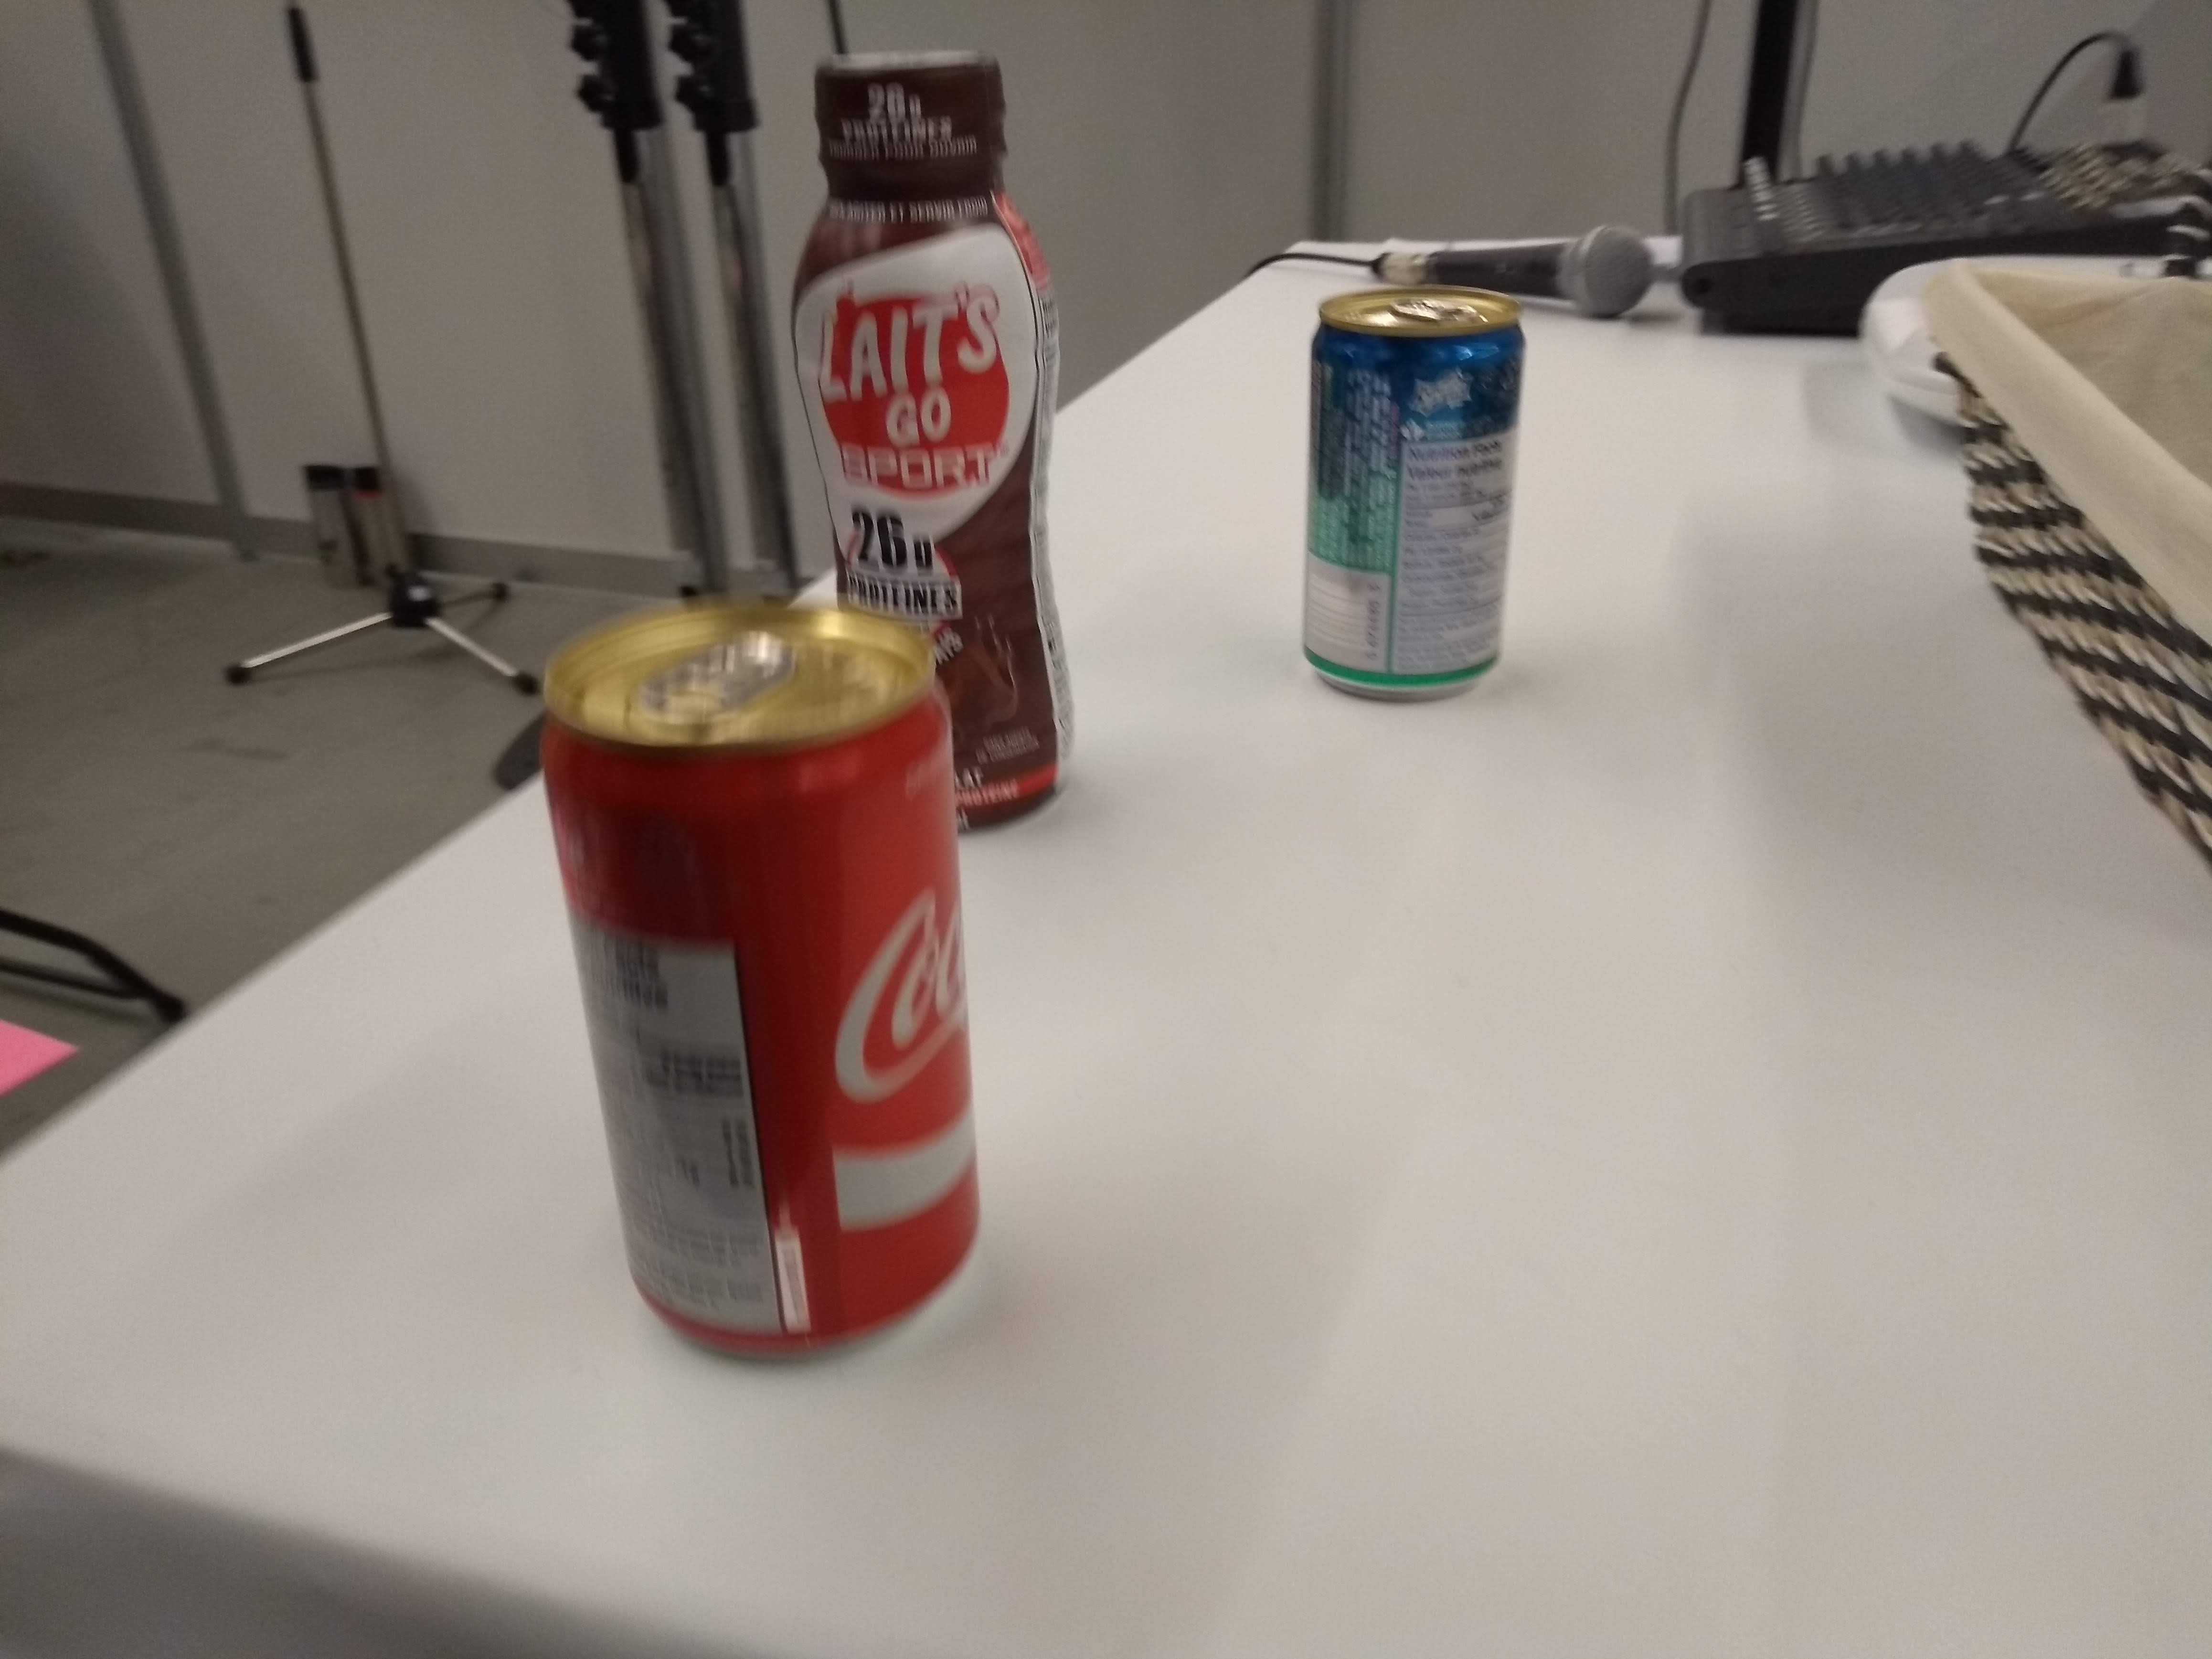chocolate_drink: (779, 38, 1087, 847)
coke: (531, 592, 1000, 1364)
sprite: (1289, 289, 1541, 713)
